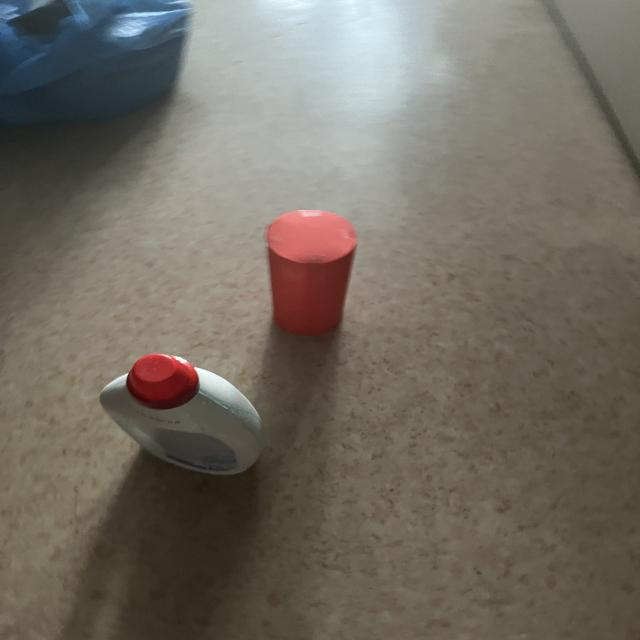przeszkoda: (266, 210, 357, 335)
